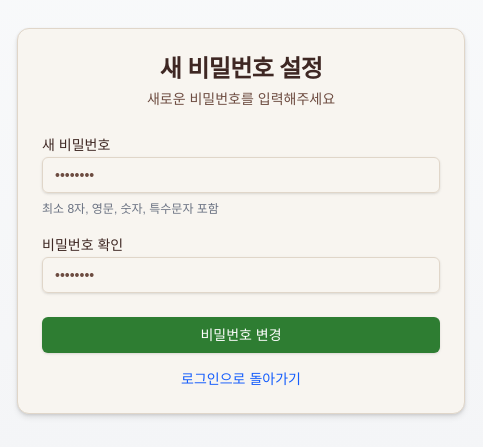
Test: UpdatePasswordPage › 비밀번호 유효성 검증 › 비밀번호 강도 표시기가 작동한다
 약한 비밀번호
Type "Test123!" into the password field labelled "새 비밀번호". click: (241, 175)
box: [42,157,440,193]
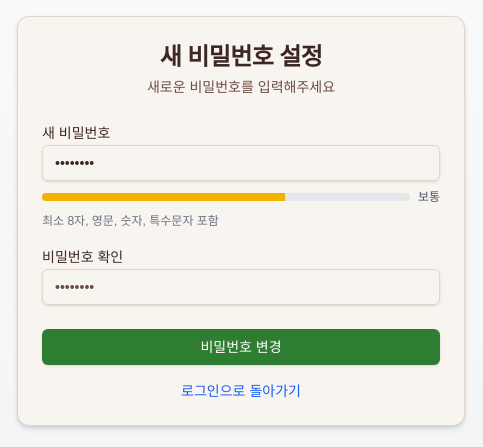
Check: the text "보통" is shown, box [418,189,440,205]
 강한 비밀번호
Type "TestTest123!" into the password field labelled "새 비밀번호". click: (241, 163)
box: [42,145,440,181]
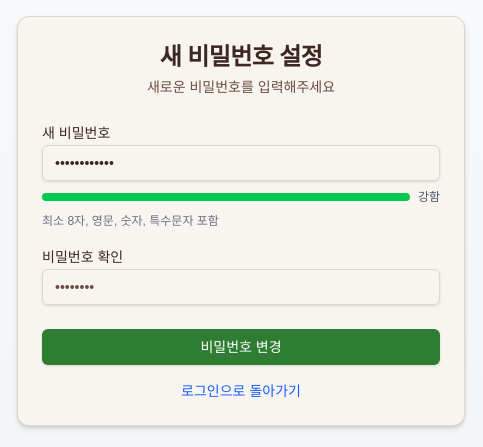
Check: the text "강함" is shown, box [418,189,440,205]
